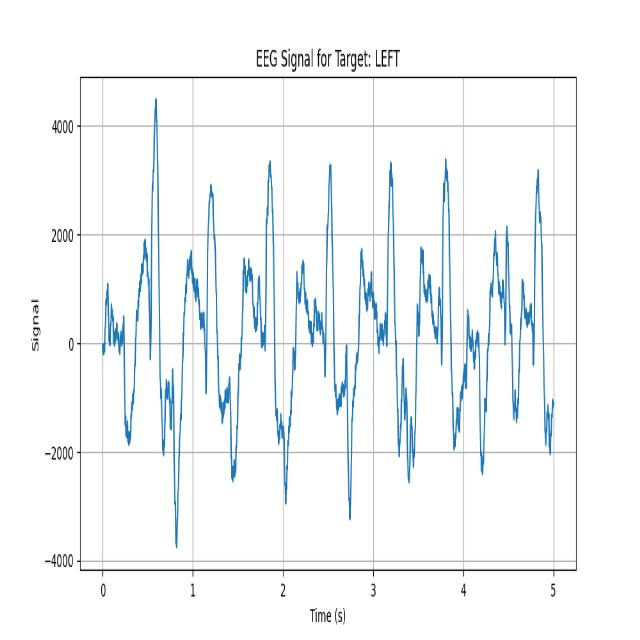LEFT: (227, 86, 298, 549), (299, 83, 363, 546), (420, 82, 479, 555), (363, 82, 421, 549), (124, 89, 177, 554), (176, 86, 228, 551), (515, 113, 556, 503)
